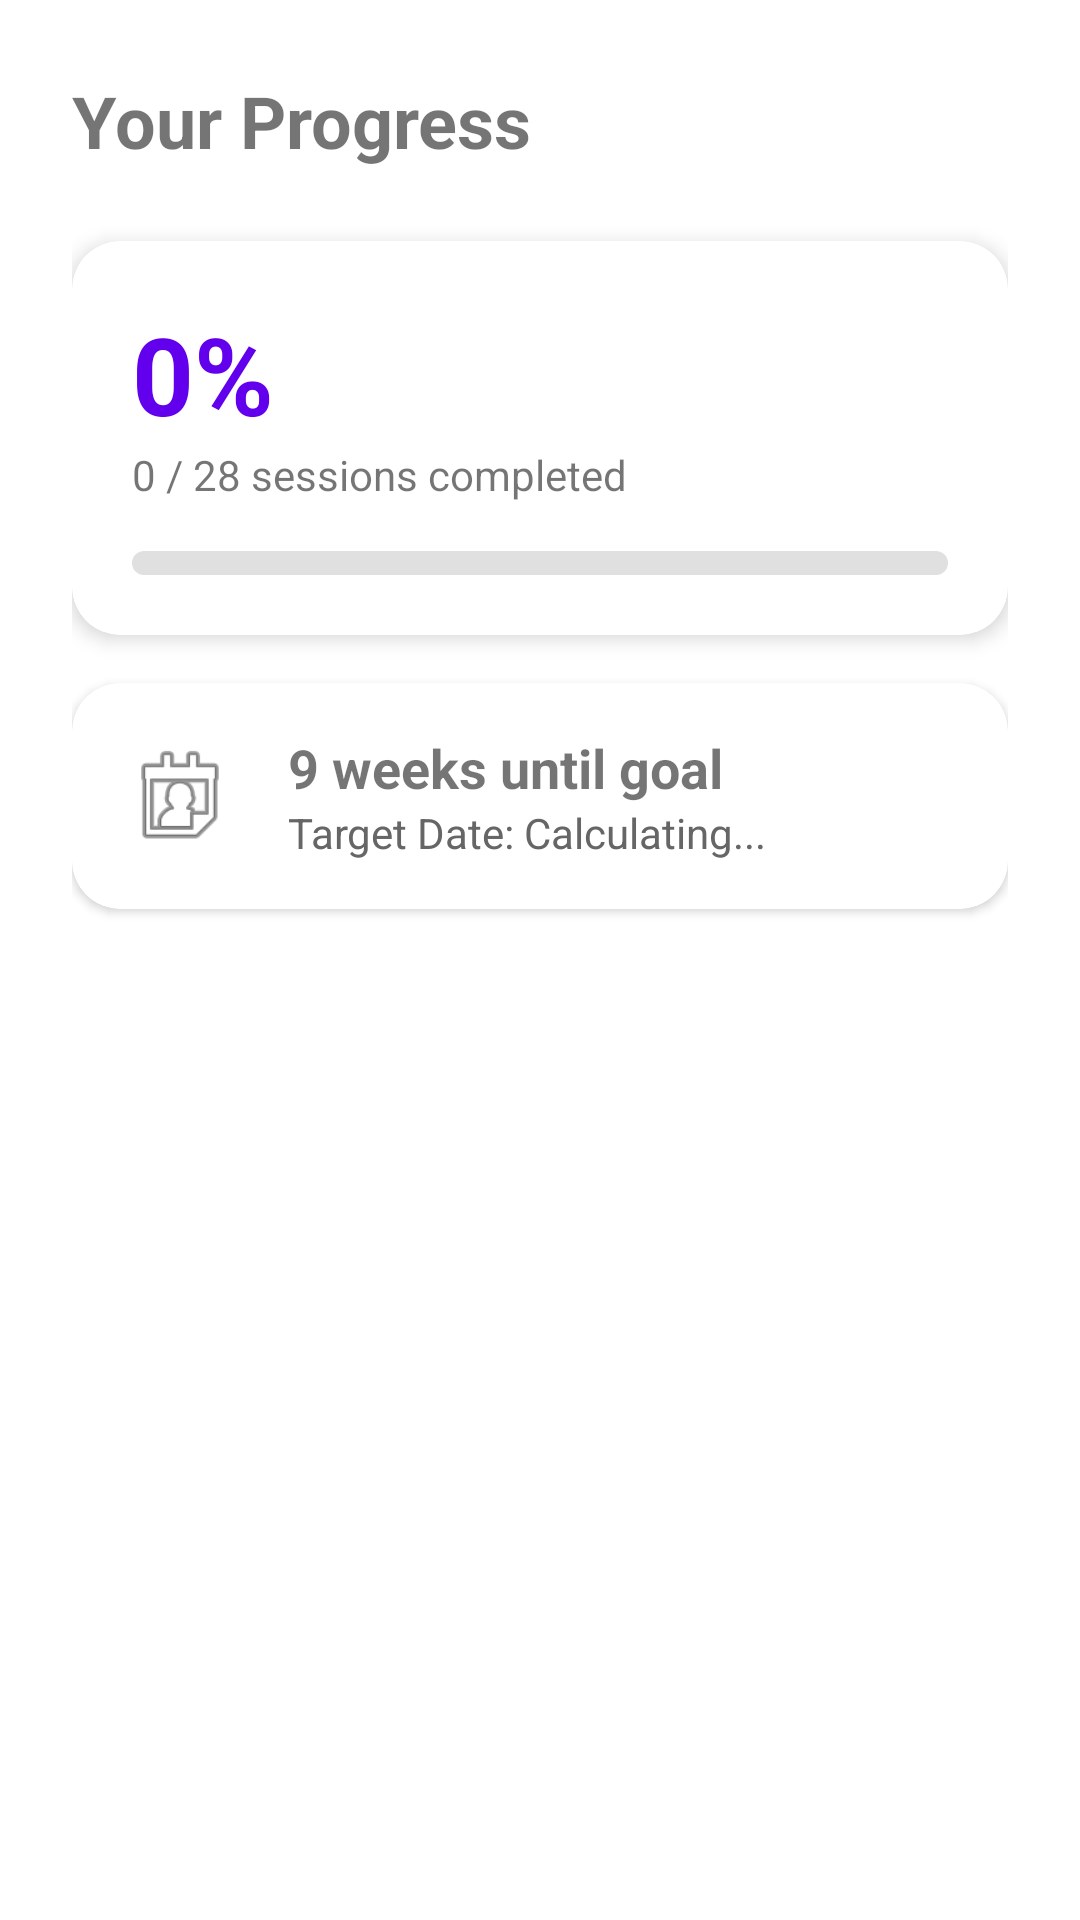

Locate icon controls on the screen. Image size 1080px x 1920px, boxes as (x1, y1, x2, y2).
calendar: (141, 751, 219, 839)
